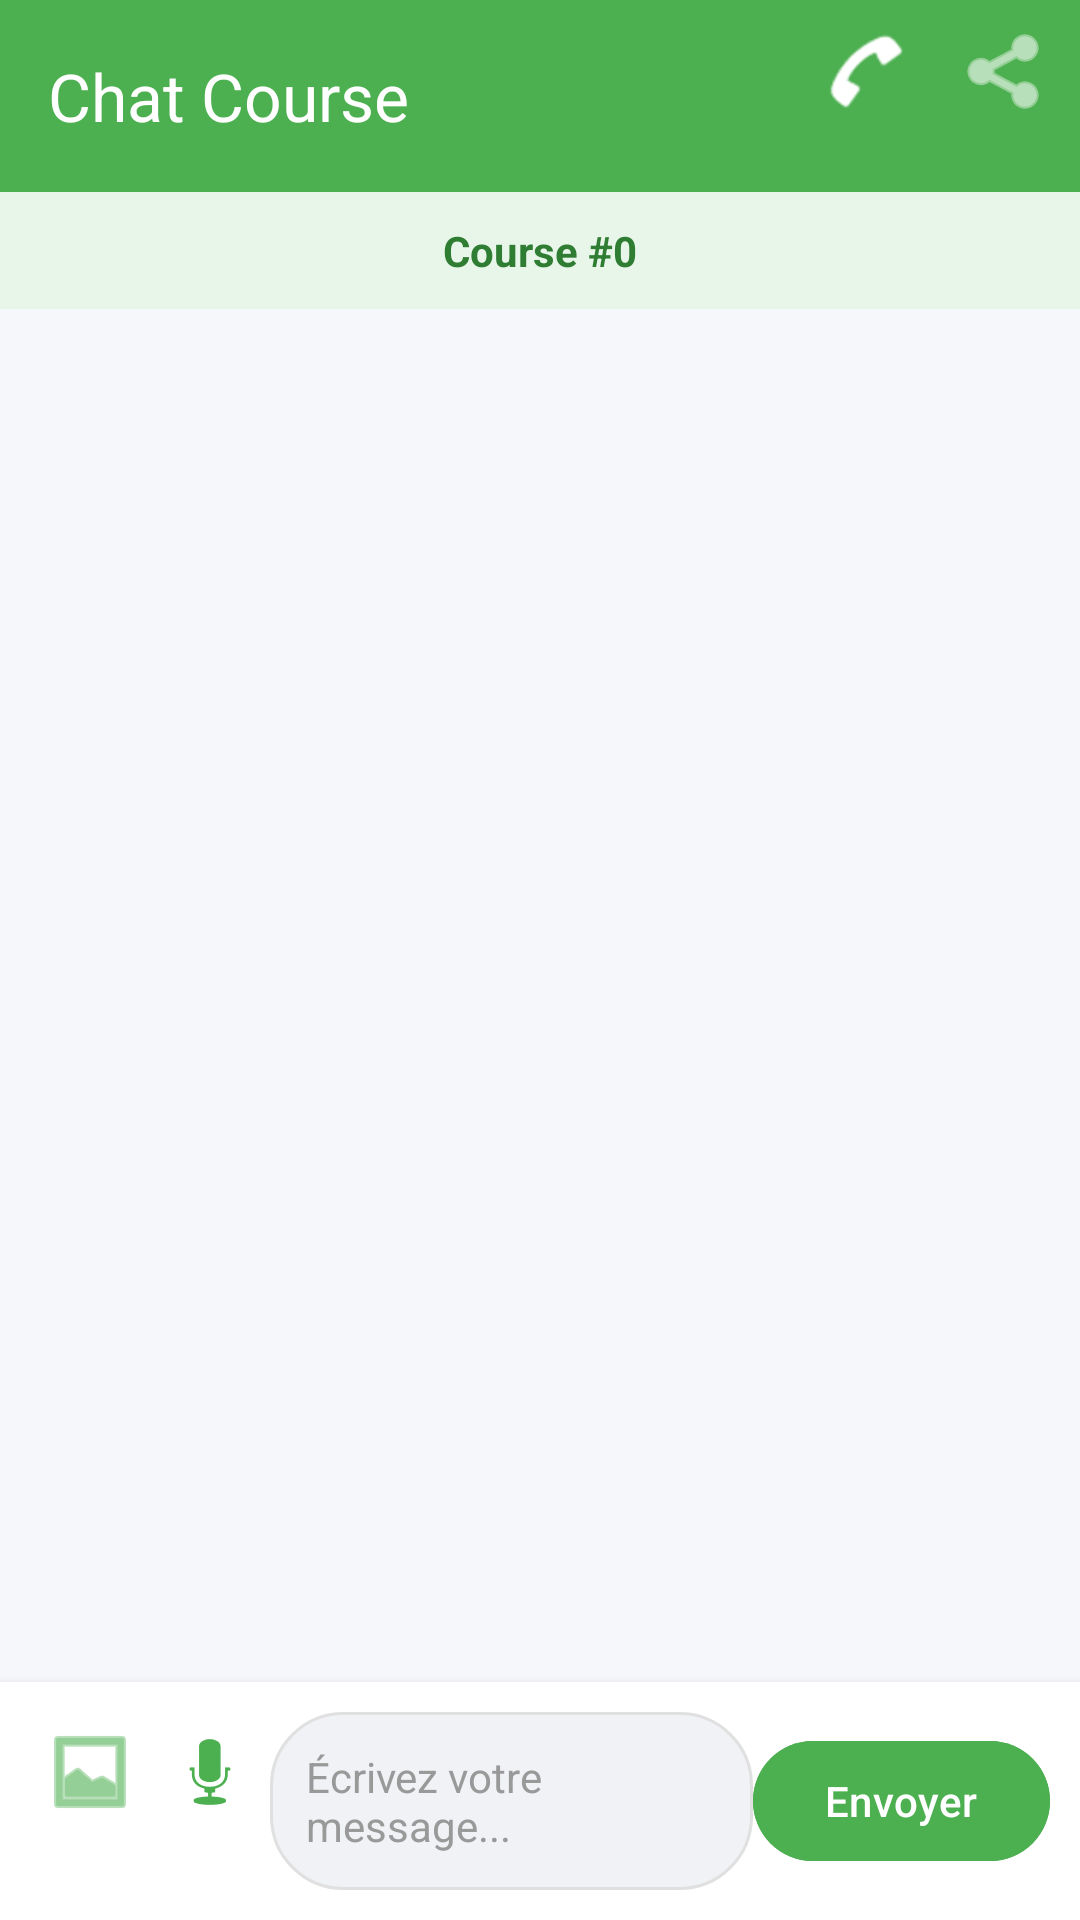

Locate icon controls on the screen. Image size 1080×1920, boxes as (x1,y1,x2,y2).
gallery: (54,1736,126,1808)
share: (967,34,1039,109)
speak now: (189,1739,231,1805)
sym action call: (830,35,902,108)
